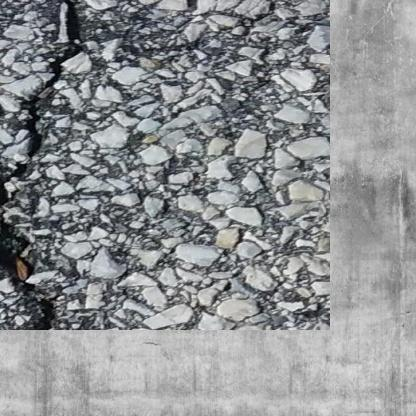Cracks: (0, 0, 79, 305)
